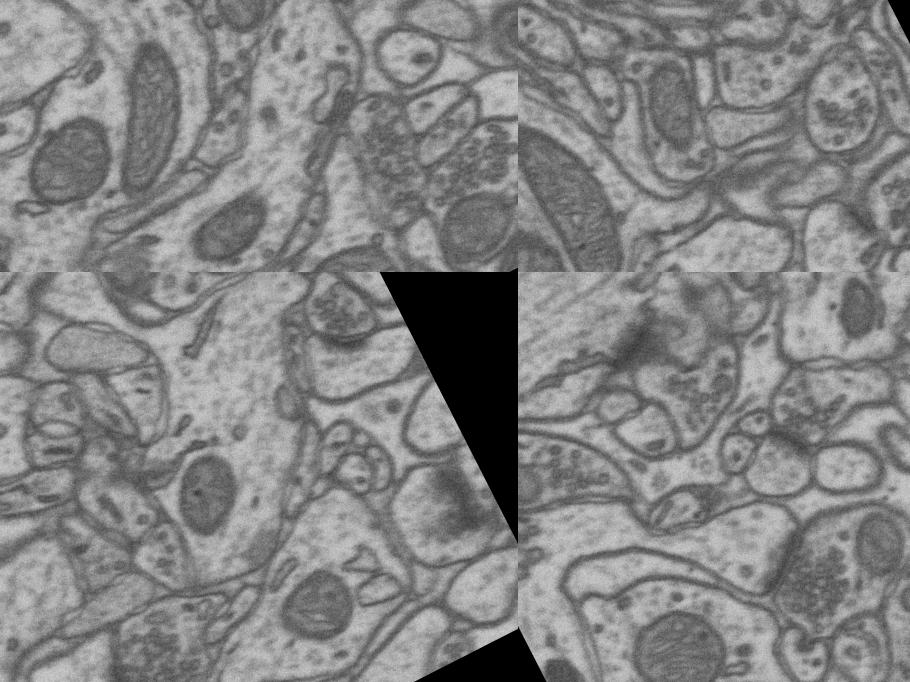mitochondria: (66, 21, 230, 206), (518, 96, 654, 272), (2, 93, 142, 229), (256, 552, 378, 670), (608, 584, 750, 682), (151, 440, 267, 558), (626, 51, 724, 162), (169, 181, 285, 272), (420, 174, 518, 272), (831, 505, 910, 606), (43, 272, 216, 316), (270, 224, 419, 272), (813, 272, 896, 346), (518, 214, 597, 272), (190, 0, 289, 46), (465, 193, 518, 272), (518, 423, 552, 528), (485, 0, 518, 82), (888, 175, 910, 261), (181, 272, 269, 291)
